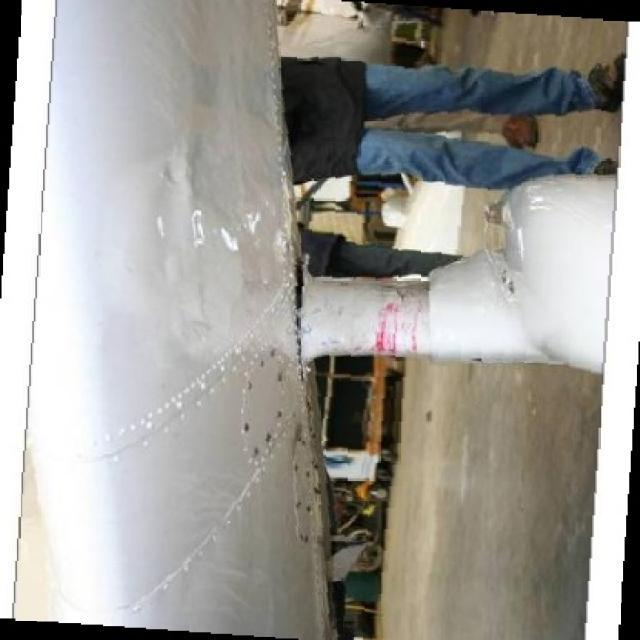dent: (187, 206, 215, 257)
